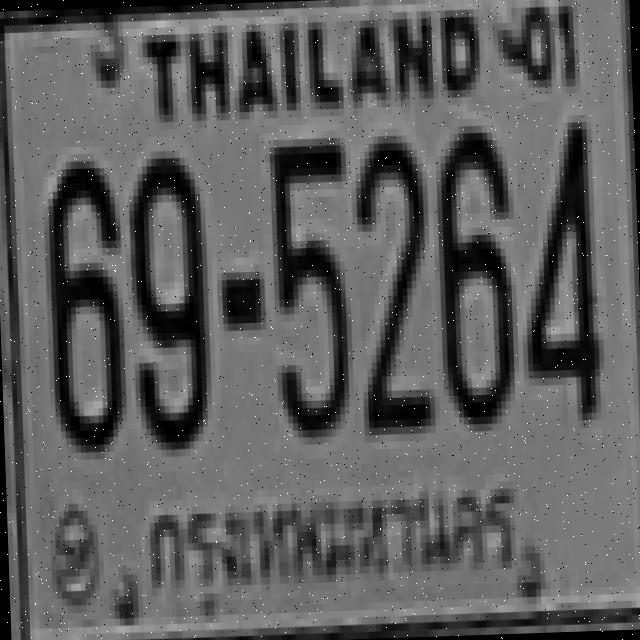2: (349, 131, 430, 431)
4: (514, 114, 600, 414)
5: (264, 130, 349, 430)
6: (41, 153, 122, 446), (432, 125, 513, 418)
9: (122, 150, 208, 443)
Bangkok: (130, 476, 530, 611)
